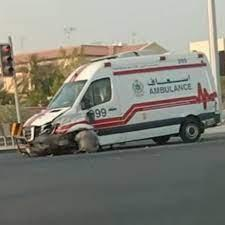ambulance_off: (21, 52, 222, 151)
